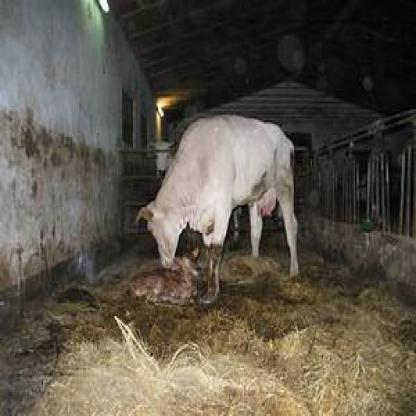cow: (134, 111, 301, 305)
